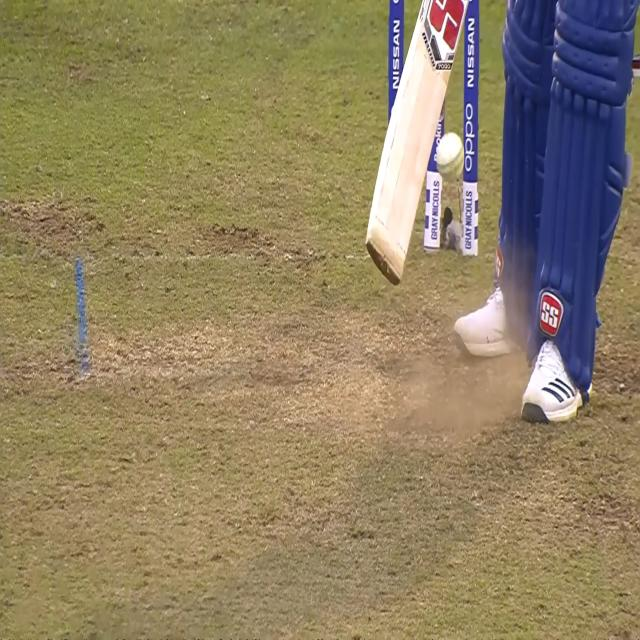ball: (436, 134, 466, 182)
